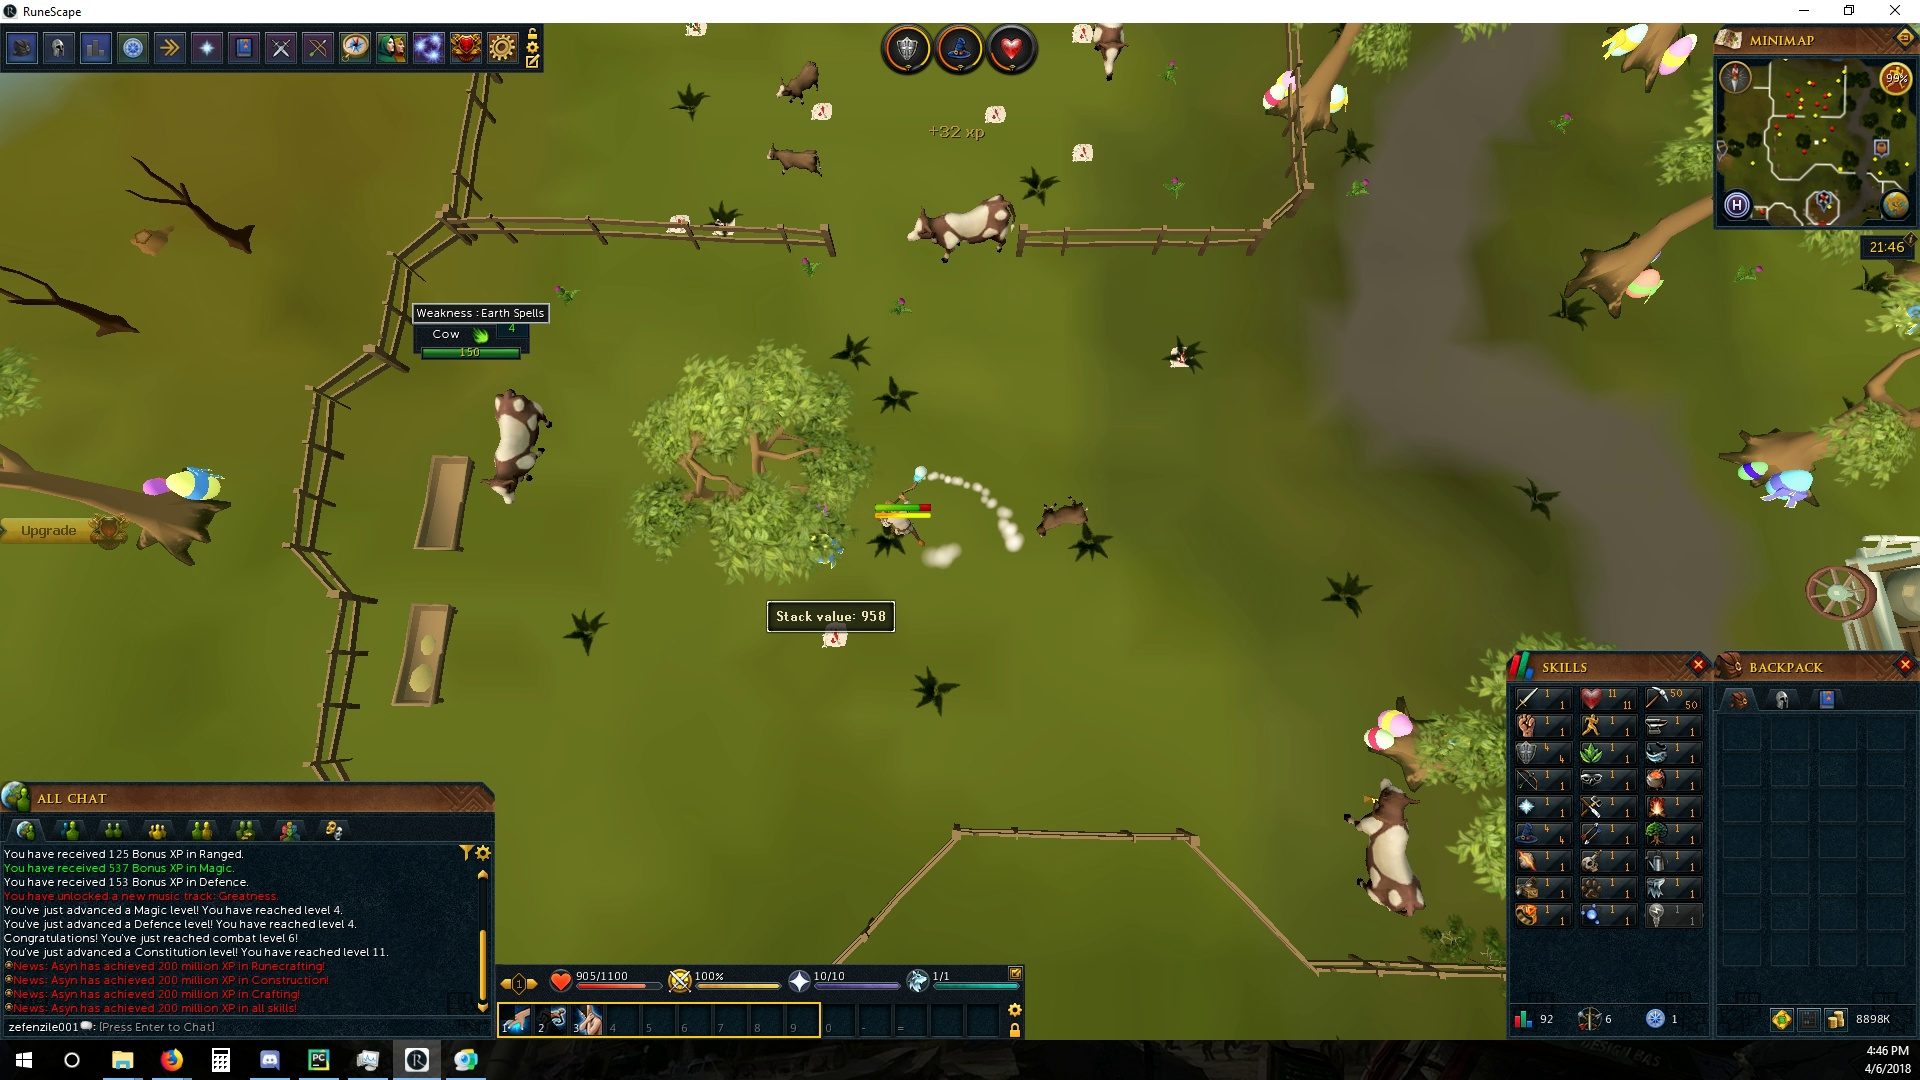calf: (1036, 495, 1095, 545), (761, 140, 828, 181), (775, 58, 822, 105)
cow: (1337, 775, 1428, 916), (480, 385, 560, 512), (902, 191, 1019, 268)
cow_drop: (1164, 345, 1197, 373), (816, 626, 852, 649), (1068, 138, 1097, 165), (1065, 22, 1098, 45), (669, 210, 695, 237), (982, 100, 1007, 127), (812, 100, 837, 123)
